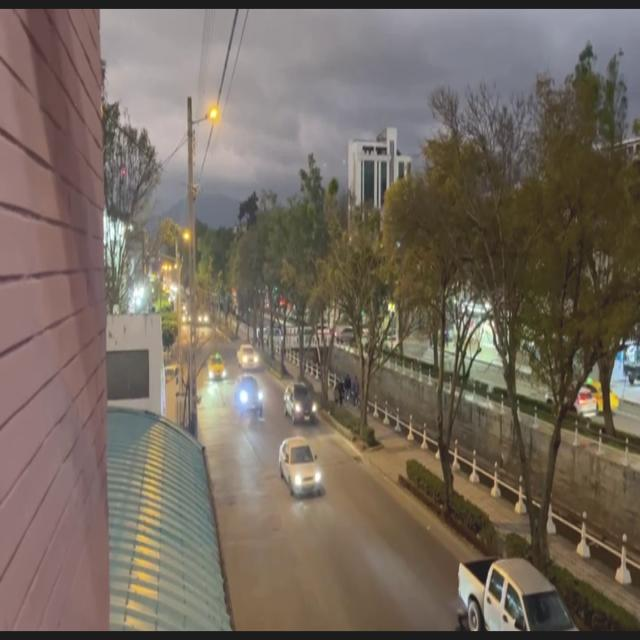CMT: (458, 558, 579, 636)
SED: (280, 444, 320, 497), (208, 356, 226, 379)
SUV: (286, 384, 315, 422)
